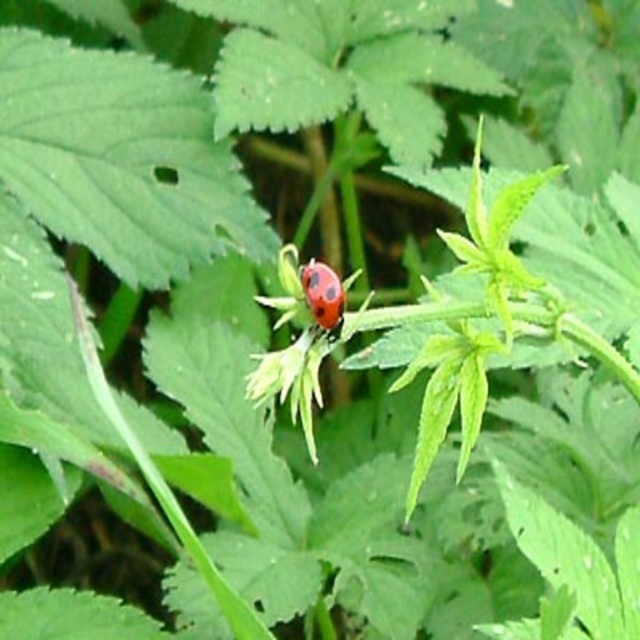Ladybug: (302, 258, 346, 339)
